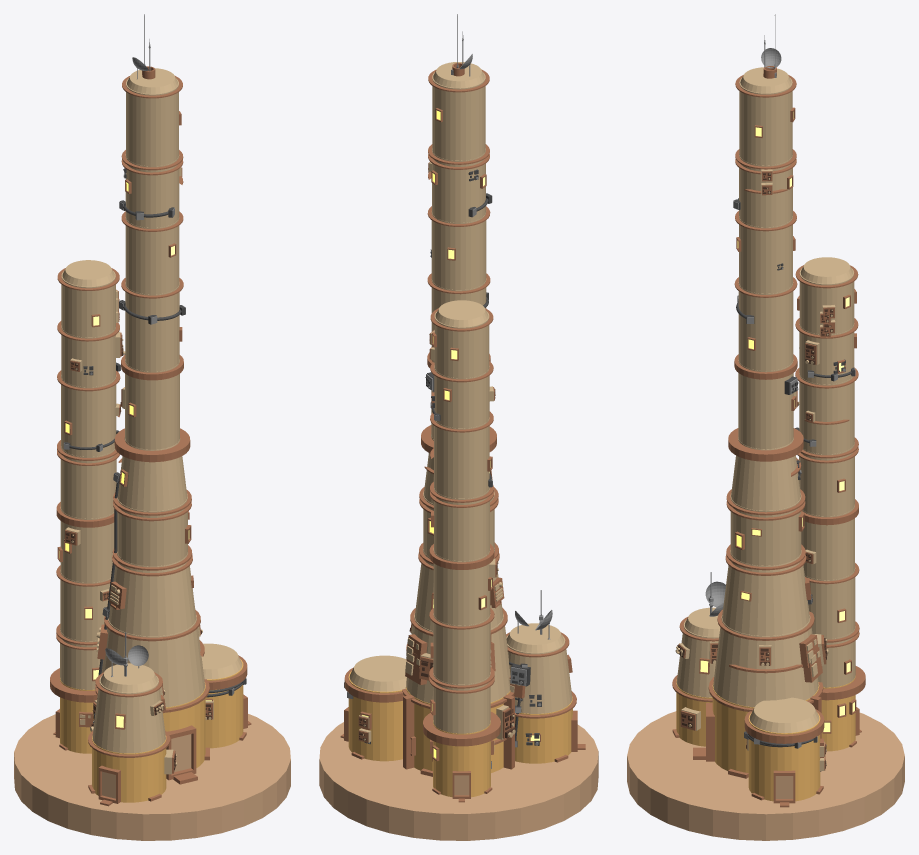
The model's file is nomad_building_08.fbx.
3 views of the same model, side by side, from view 1: azimuth 30°, elevation 25°; view 2: azimuth 150°, elevation 25°; view 3: azimuth 270°, elevation 25° (orthographic).
Visible parts, largest first — view 1: B08_M_Foundation_foundation, B08_M_Drum2, B08_M_Drum1, B08_M_Drum6, B08_M_Drum5, B08_A3_Drum1, B08_M_Drum9, B08_A2_Drum5, B08_M_Drum3, B08_M_Drum7, B08_M_Drum4, B08_A2_Drum4 (+21 smaller); view 2: B08_M_Foundation_foundation, B08_A2_Drum5, B08_M_Drum9, B08_M_Drum7, B08_A2_Drum2, B08_A2_Drum4, B08_A2_Drum3, B08_A1_Drum0, B08_A3_Drum1, B08_M_Drum8, B08_A2_Drum7, B08_A2_Drum1 (+17 smaller); view 3: B08_M_Foundation_foundation, B08_M_Drum1, B08_M_Drum2, B08_M_Drum6, B08_M_Drum5, B08_M_Drum9, B08_A2_Drum5, B08_A1_Drum0, B08_M_Drum7, B08_M_Drum4, B08_M_Drum3, B08_A2_Drum4 (+19 smaller).
Boxes of the visible parts, left/top/right/bottom form: B08_M_Foundation_foundation: left=14, top=714, right=290, bottom=840; B08_M_Drum2: left=108, top=552, right=196, bottom=636; B08_M_Drum1: left=101, top=615, right=205, bottom=707; B08_M_Drum6: left=125, top=282, right=179, bottom=371; B08_M_Drum5: left=125, top=359, right=179, bottom=449; B08_A3_Drum1: left=92, top=675, right=165, bottom=753; B08_M_Drum9: left=126, top=78, right=178, bottom=166; B08_A2_Drum5: left=61, top=375, right=116, bottom=456; B08_M_Drum3: left=117, top=494, right=187, bottom=566; B08_M_Drum7: left=125, top=217, right=179, bottom=294; B08_M_Drum4: left=117, top=437, right=187, bottom=511; B08_A2_Drum4: left=60, top=445, right=116, bottom=518; B08_M_Foundation_foundation: left=319, top=722, right=598, bottom=840; B08_A2_Drum5: left=434, top=417, right=489, bottom=498; B08_M_Drum9: left=432, top=72, right=485, bottom=160; B08_M_Drum7: left=431, top=211, right=486, bottom=289; B08_A2_Drum2: left=433, top=613, right=490, bottom=684; B08_A2_Drum4: left=434, top=487, right=489, bottom=561; B08_A2_Drum3: left=433, top=548, right=490, bottom=625; B08_A1_Drum0: left=348, top=671, right=402, bottom=761; B08_A3_Drum1: left=506, top=635, right=572, bottom=713; B08_M_Drum8: left=432, top=148, right=485, bottom=222; B08_A2_Drum7: left=434, top=311, right=489, bottom=378; B08_A2_Drum1: left=433, top=672, right=490, bottom=733; B08_M_Foundation_foundation: left=627, top=711, right=904, bottom=840; B08_M_Drum1: left=713, top=615, right=818, bottom=707; B08_M_Drum2: left=722, top=550, right=809, bottom=635; B08_M_Drum6: left=738, top=282, right=793, bottom=370; B08_M_Drum5: left=738, top=359, right=793, bottom=449; B08_M_Drum9: left=739, top=78, right=792, bottom=165; B08_A2_Drum5: left=799, top=373, right=854, bottom=454; B08_A1_Drum0: left=748, top=712, right=820, bottom=801; B08_M_Drum7: left=739, top=216, right=792, bottom=293; B08_M_Drum4: left=731, top=438, right=800, bottom=510; B08_M_Drum3: left=730, top=493, right=801, bottom=565; B08_A2_Drum4: left=799, top=442, right=854, bottom=516.
Bounding box in the file's own units: 489 × 1490 × 489.
